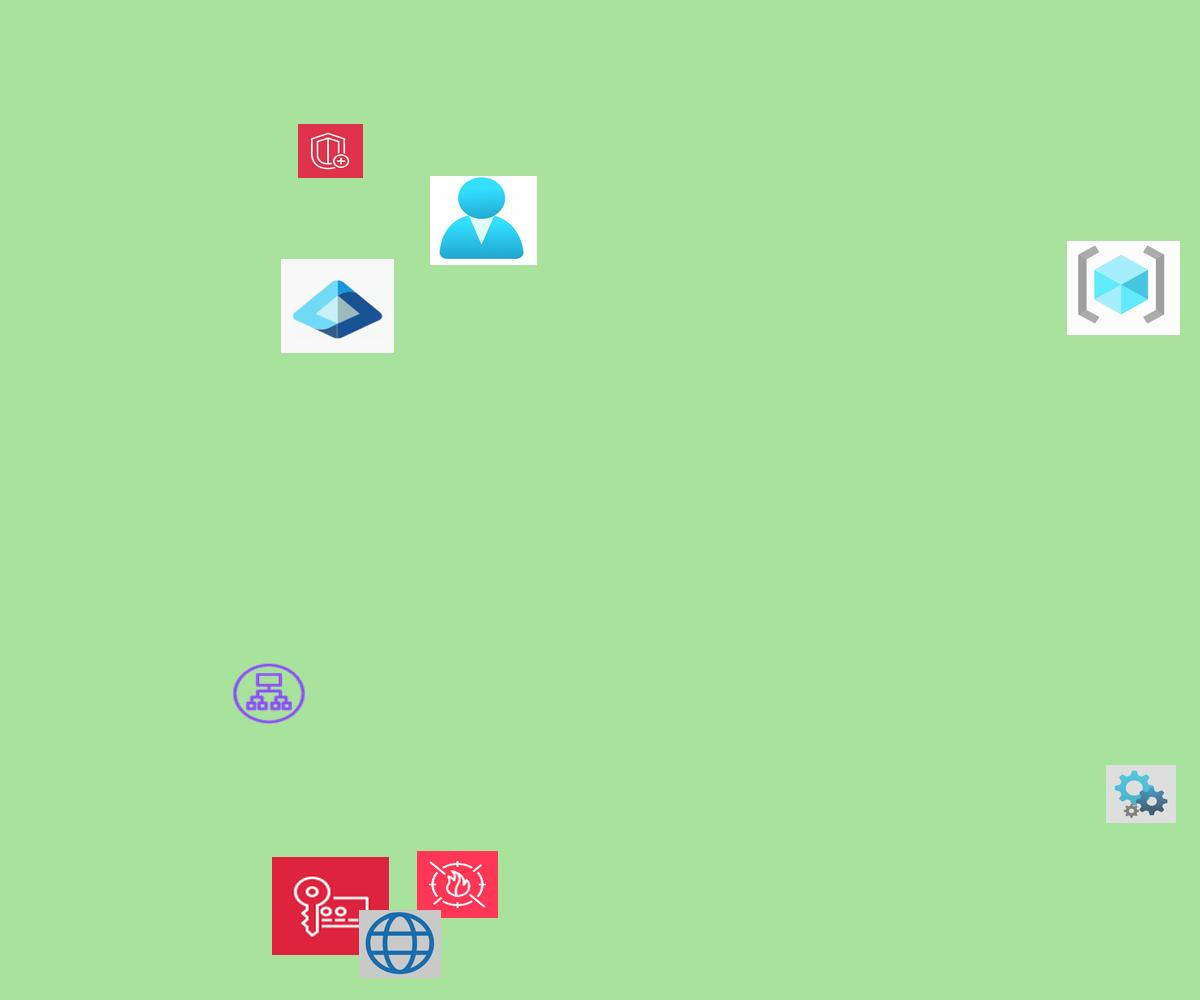AWS-Key-Management-Service: (272, 857, 389, 955)
AWS-Res_Elastic-Load-Balancing_Application-Load-Balancer: (230, 661, 308, 726)
AWS-Shield: (298, 124, 363, 178)
AWS-WAF: (417, 851, 498, 918)
Azure_api: (1106, 765, 1176, 823)
Azure_http: (359, 910, 441, 978)
Azure_microsoft_entra: (281, 259, 394, 353)
Azure_resource_group: (1067, 241, 1180, 335)
Azure_users: (430, 176, 537, 265)
